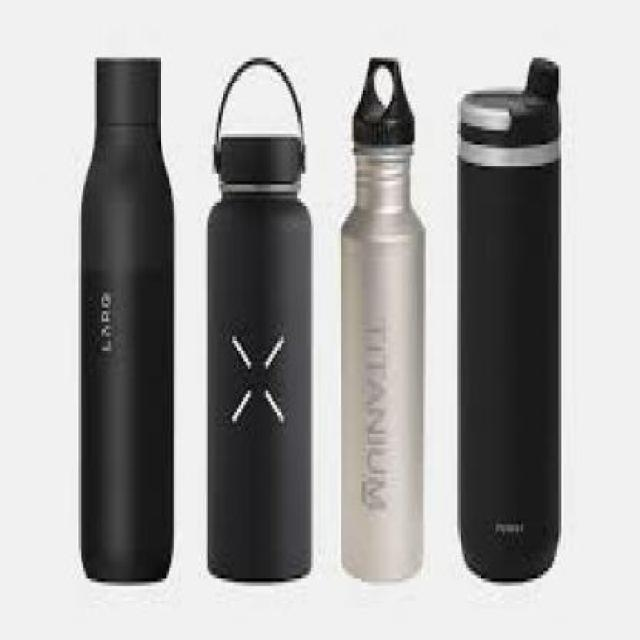Drinking: (68, 36, 188, 618), (334, 26, 431, 614), (455, 50, 559, 572)
